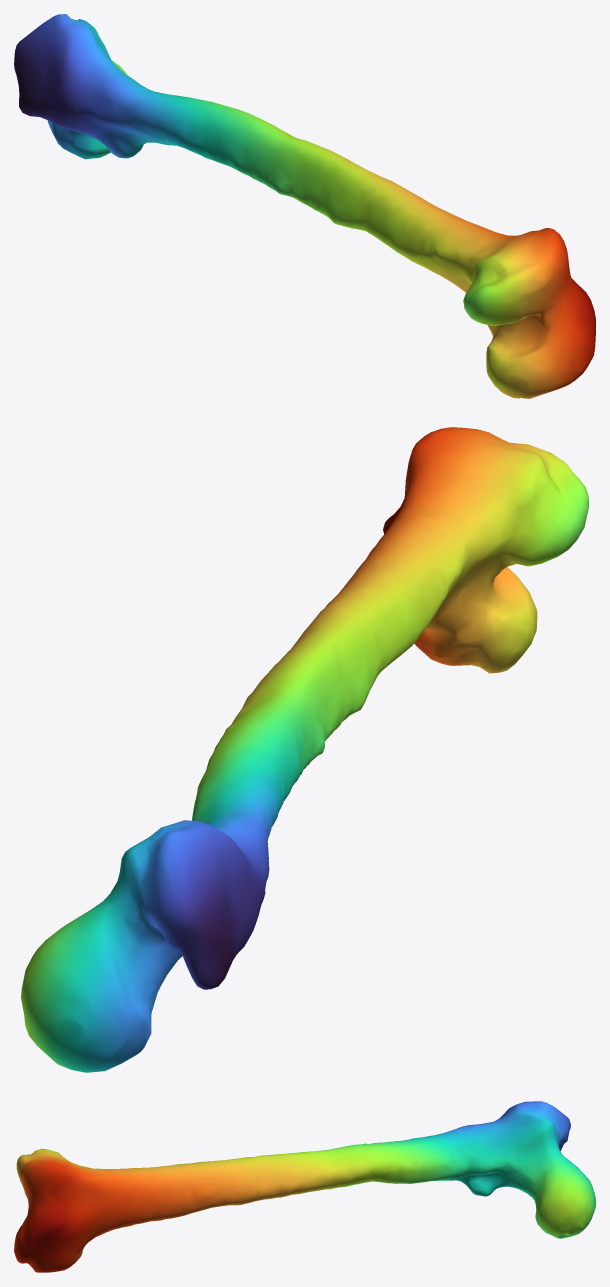
The model's file is femur.obj.
3 renders of one model, top to bottom at view 1: azimuth 30°, elevation 25°; view 2: azimuth 150°, elevation 25°; view 3: azimuth 270°, elevation 25°, orthographic. The views are drawn at different scales.
Bounding box in the file's own units: 0.9448 × 0.6413 × 2.84.
